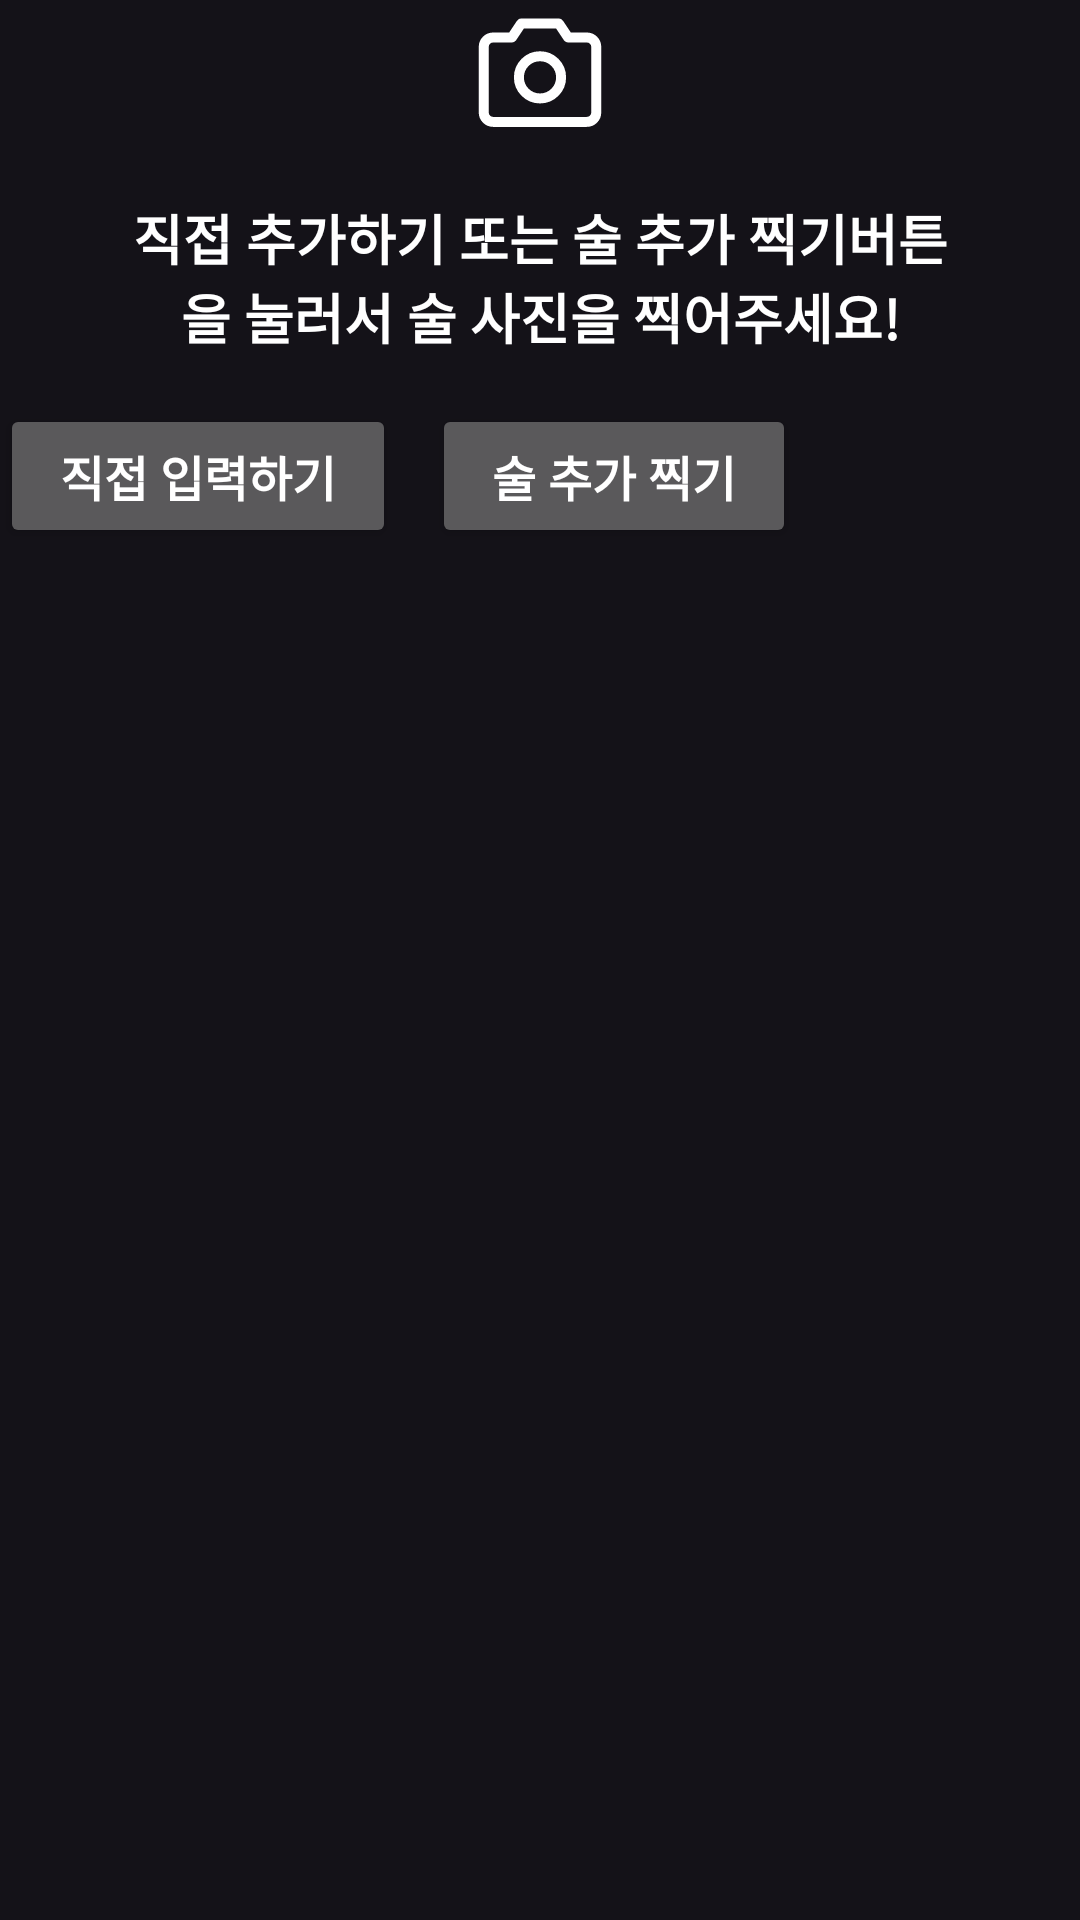

Icons on this 1080px×1920px Android screen, each with the point to tap as (x,y):
camera: (540,72)
